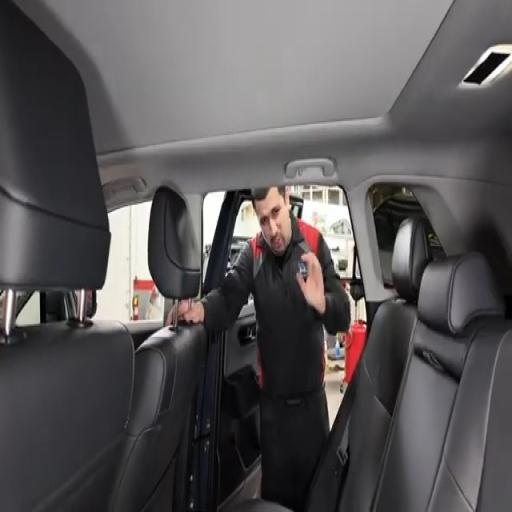door: (192, 296, 260, 510)
side_mirror: (86, 291, 96, 318)
window: (369, 184, 444, 285)
